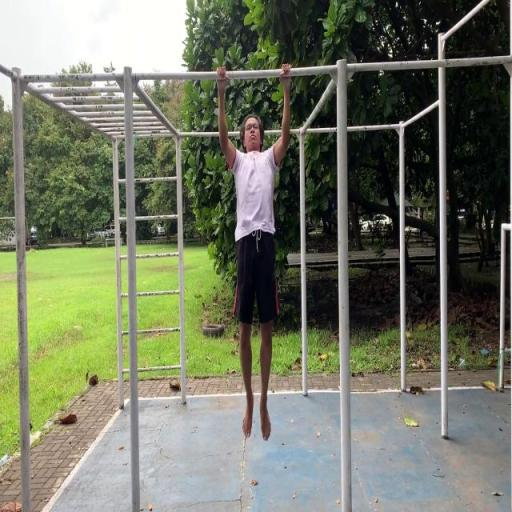Normal_BrenchPress: (215, 63, 293, 442)
